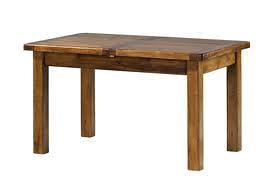table: (24, 32, 251, 171)
